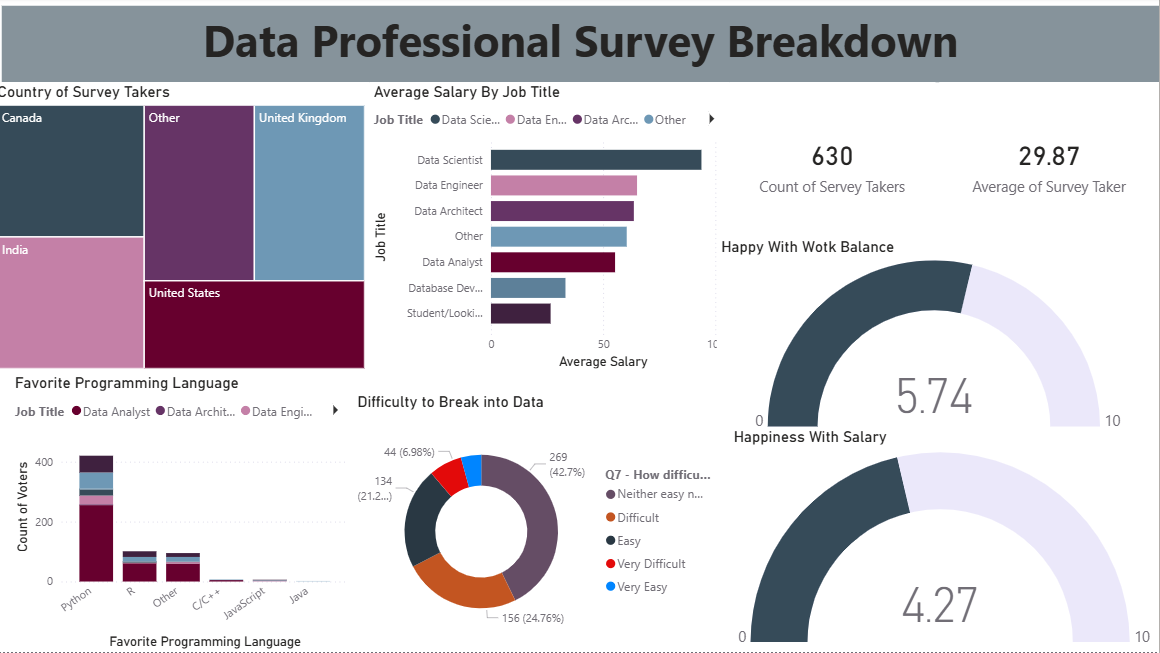

The dashboard page shown, as its layout file describes it:
{"tool":"powerbi","page":{"name":"Page 1","canvas":[1280,720],"ordinal":0},"visuals":[{"type":"textbox","box":[9.6,9.6,1270.7,83.7],"z":0},{"type":"card","fields":{"Values":["Count(Data Professional Survey.Unique ID)"]},"box":[808.2,93.3,226.4,179.8],"z":1000},{"type":"card","fields":{"Values":["Avg(Data Professional Survey.Q10 - Current Age)"]},"box":[1039,93.4,241.3,179.9],"z":2000},{"type":"barChart","title":"Average Salary By Job Title","fields":{"Category":["Data Professional Survey.Q1 - Which Title Best Fits your Current Role?.1"],"Y":["Avg(Data Professional Survey.Avg Salary)"],"Series":["Data Professional Survey.Q1 - Which Title Best Fits your Current Role?.1"]},"box":[413,93.3,395.2,319.7],"z":3000},{"type":"columnChart","title":"Favorite Programming Language","fields":{"Category":["Data Professional Survey.Q5 - Favorite Programming Language.1"],"Y":["CountNonNull(Data Professional Survey.Unique ID)"],"Series":["Data Professional Survey.Q1 - Which Title Best Fits your Current Role?.1"]},"box":[19.2,413,376,307.4],"z":4000},{"type":"treemap","title":"Country of Survey Takers","fields":{"Group":["Data Professional Survey.Q11 - Which Country do you live in?.1"],"Values":["Count(Data Professional Survey.Q11 - Which Country do you live in?.1)"]},"box":[0,93.3,413,319.7],"z":5000},{"type":"gauge","title":"Happy With Wotk Balance","fields":{"Y":["Avg(Data Professional Survey.Q6 - How Happy are you in your Current Position with the following? (Work/Life Balance))"],"MinValue":["Min(Data Professional Survey.Q6 - How Happy are you in your Current Position with the following? (Work/Life Balance))1"],"MaxValue":["Max(Data Professional Survey.Q6 - How Happy are you in your Current Position with the following? (Work/Life Balance))2"]},"box":[794.5,263.5,485.8,218.2],"z":5001},{"type":"gauge","title":"Happiness With Salary","fields":{"Y":["Avg(Data Professional Survey.Q6 - How Happy are you in your Current Position with the following? (Salary))"],"MinValue":["Min(Data Professional Survey.Q6 - How Happy are you in your Current Position with the following? (Salary))"],"MaxValue":["Max(Data Professional Survey.Q6 - How Happy are you in your Current Position with the following? (Salary))"]},"box":[808.2,472,472,248.4],"z":5002},{"type":"donutChart","title":"Difficulty to Break into Data","fields":{"Category":["Data Professional Survey.Q7 - How difficult was it for you to break into Data?"],"Y":["CountNonNull(Data Professional Survey.Q7 - How difficult was it for you to break into Data?)"]},"box":[395,434,399,286],"z":5003}]}

Visuals, with their boxes in screenshot pixels (x1, y1, x2, y2), scaled from the page's 1280x720 canvas onto the 1160x653 screenshot:
textbox: BBox(9, 9, 1159, 85)
card - Count(Data Professional Survey.Unique ID): BBox(732, 85, 938, 248)
card - Avg(Data Professional Survey.Q10 - Current Age): BBox(942, 85, 1159, 248)
"Average Salary By Job Title" barChart: BBox(374, 85, 732, 375)
"Favorite Programming Language" columnChart: BBox(17, 375, 358, 652)
"Country of Survey Takers" treemap: BBox(0, 85, 374, 375)
"Happy With Wotk Balance" gauge: BBox(720, 239, 1159, 437)
"Happiness With Salary" gauge: BBox(732, 428, 1159, 652)
"Difficulty to Break into Data" donutChart: BBox(358, 394, 720, 652)
